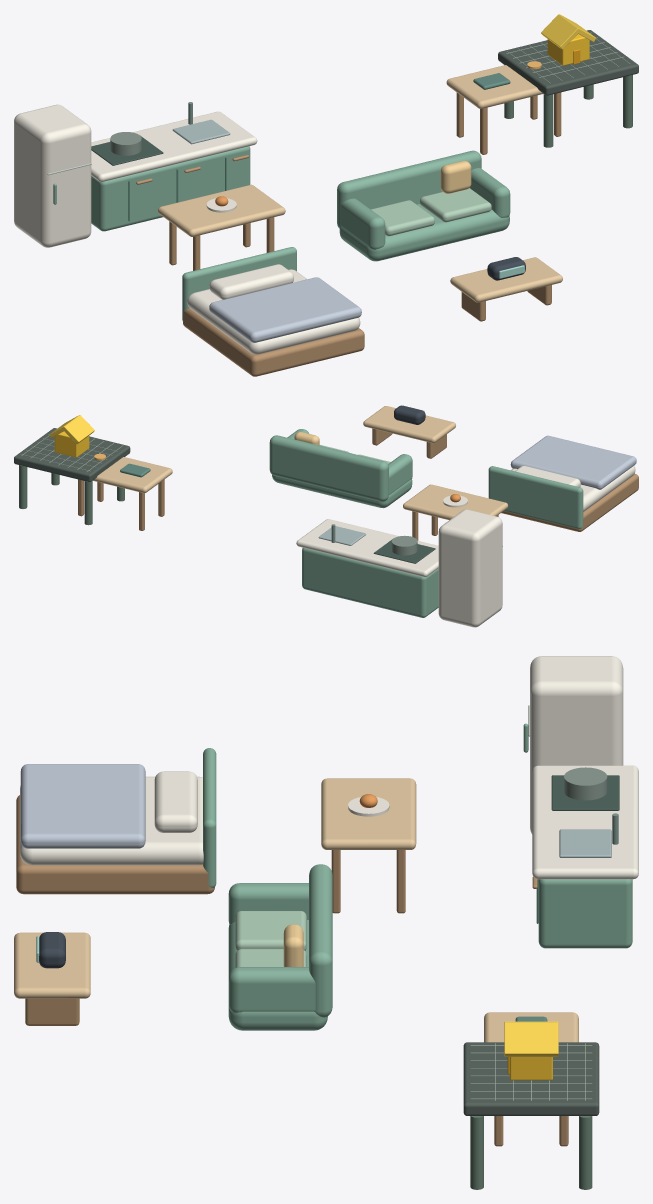
The model's file is furniture-layout.glb.
The picture shows the model from 3 angles, top to bottom: view 1: azimuth 30°, elevation 25°; view 2: azimuth 150°, elevation 25°; view 3: azimuth 270°, elevation 25°; orthographic projection. The views are drawn at different scales.
Parts seen in each view (by area): view 1: bed, sofa, kitchen, desk, fridge, table, vr; view 2: kitchen, bed, desk, sofa, fridge, vr, table; view 3: bed, kitchen, sofa, desk, fridge, table, vr.
Part boxes in pixels (left/top/right/bottom): bed: left=182, top=247, right=364, bottom=376; sofa: left=337, top=150, right=510, bottom=261; kitchen: left=91, top=102, right=257, bottom=231; desk: left=446, top=14, right=638, bottom=154; fridge: left=14, top=104, right=91, bottom=247; table: left=158, top=184, right=285, bottom=270; vr: left=450, top=257, right=562, bottom=321; kitchen: left=296, top=519, right=438, bottom=617; bed: left=488, top=435, right=638, bottom=531; desk: left=14, top=415, right=172, bottom=530; sofa: left=269, top=429, right=412, bottom=508; fridge: left=438, top=509, right=502, bottom=627; vr: left=363, top=405, right=455, bottom=458; table: left=403, top=484, right=508, bottom=540; bed: left=16, top=748, right=216, bottom=894; kitchen: left=532, top=765, right=638, bottom=948; sofa: left=228, top=864, right=332, bottom=1030; desk: left=463, top=1012, right=599, bottom=1189; fridge: left=523, top=656, right=623, bottom=834; table: left=321, top=778, right=416, bottom=913; vr: left=14, top=932, right=90, bottom=1025.
Size of the model in its own units: 10.06 by 1.93 by 6.91.
